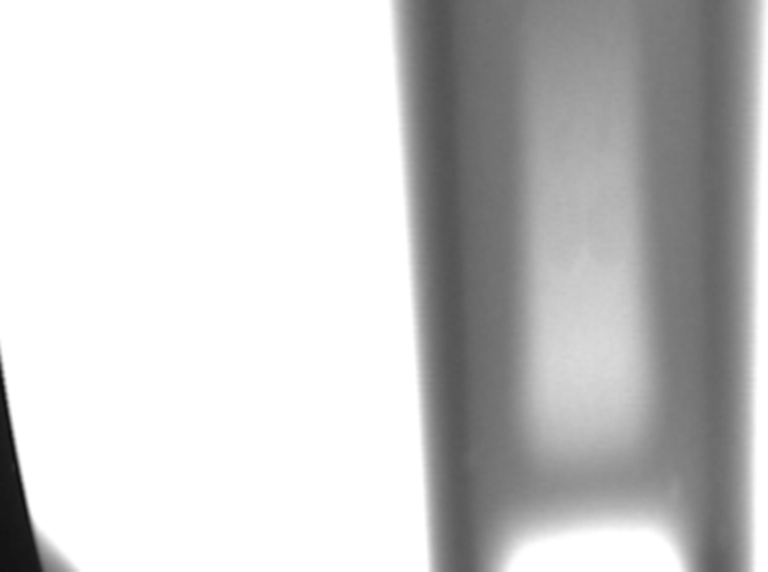defect: (463, 441, 485, 482)
